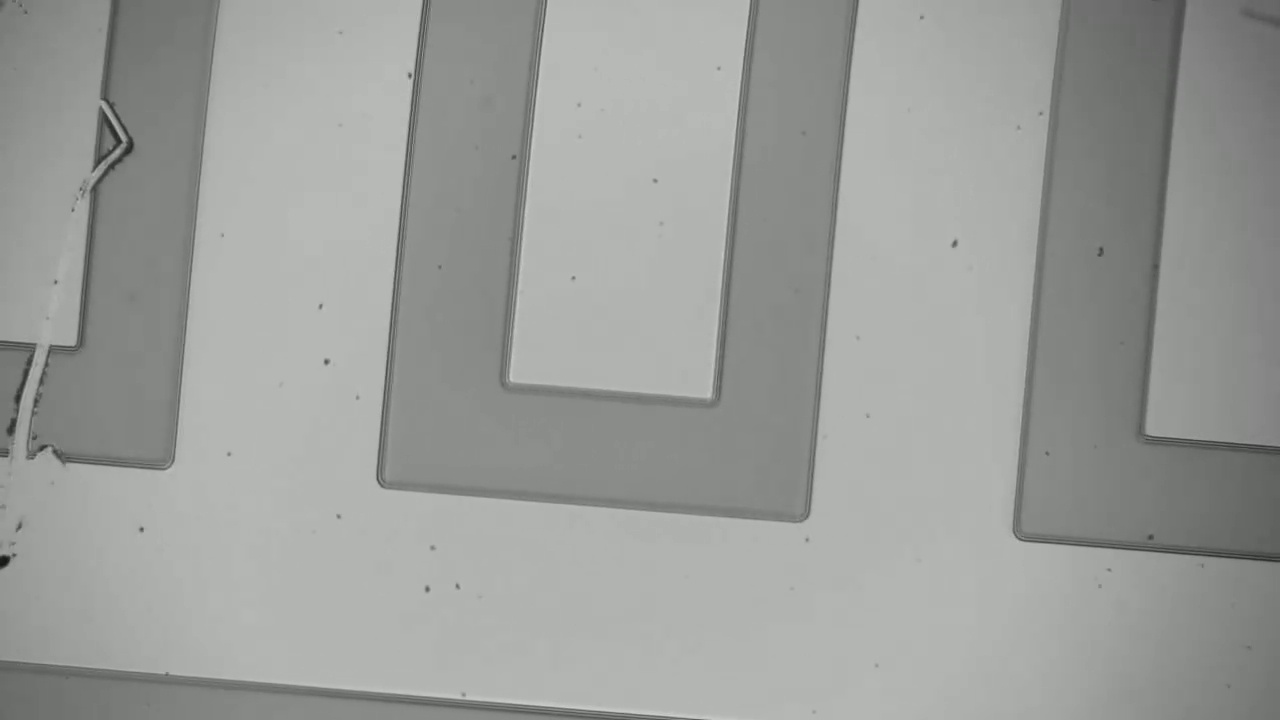Short_circuit: (0, 331, 68, 479)
